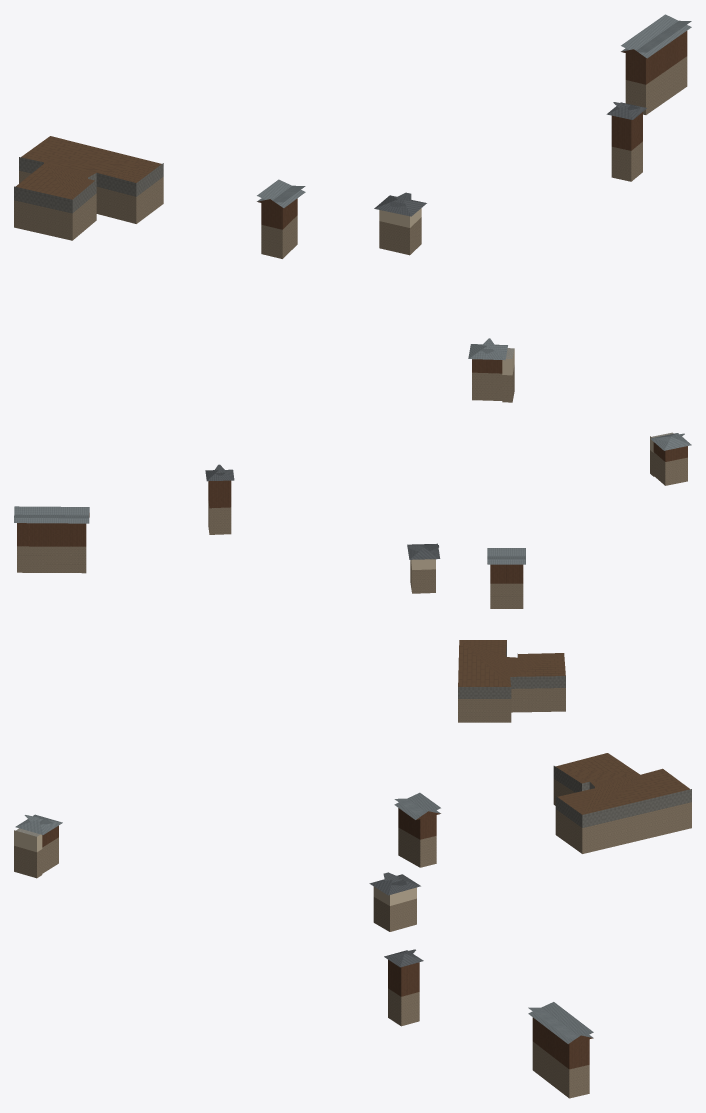
File: bld_c42_47_188.gltf
3 views of the same model, one above another, from view 1: azimuth 30°, elevation 25°; view 2: azimuth 150°, elevation 25°; view 3: azimuth 270°, elevation 25° (orthographic). The views are drawn at different scales.
Parts seen in each view (by area): view 1: bld_c42_47_188; view 2: bld_c42_47_188; view 3: bld_c42_47_188.
Part boxes in pixels (bbox=[...]): bld_c42_47_188: bbox=[14, 14, 691, 402]; bld_c42_47_188: bbox=[14, 432, 691, 722]; bld_c42_47_188: bbox=[14, 753, 691, 1098].
Bounding box in the file's own units: 114 × 13.5 × 106.
11 materials, 11 textured.
